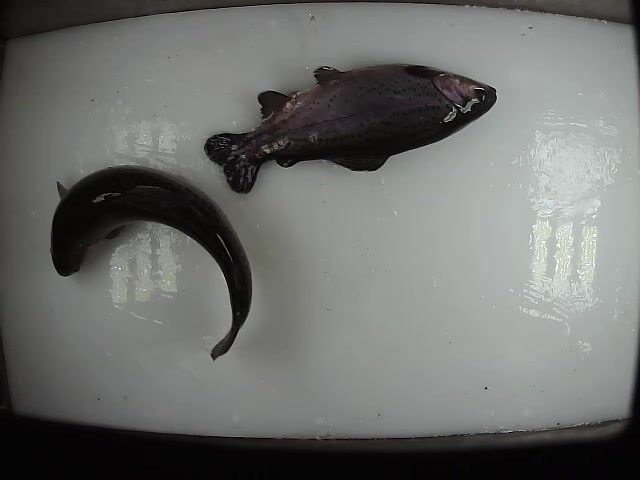fish: (48, 162, 255, 364), (203, 60, 500, 196)
